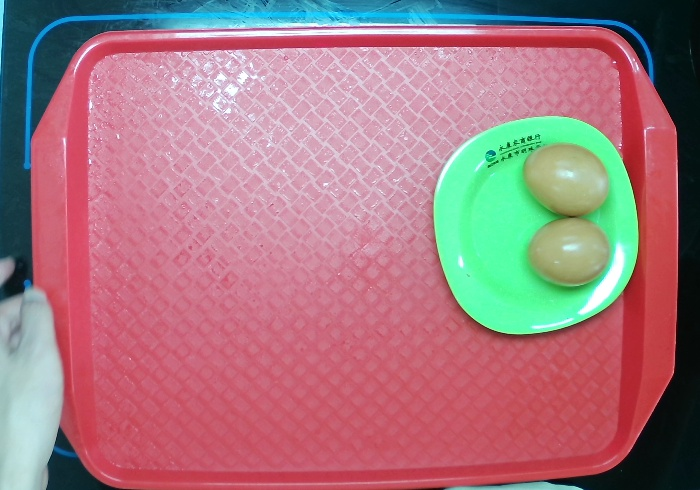YKMZ-Lv_Se_Fang_Die: (427, 110, 643, 344)
